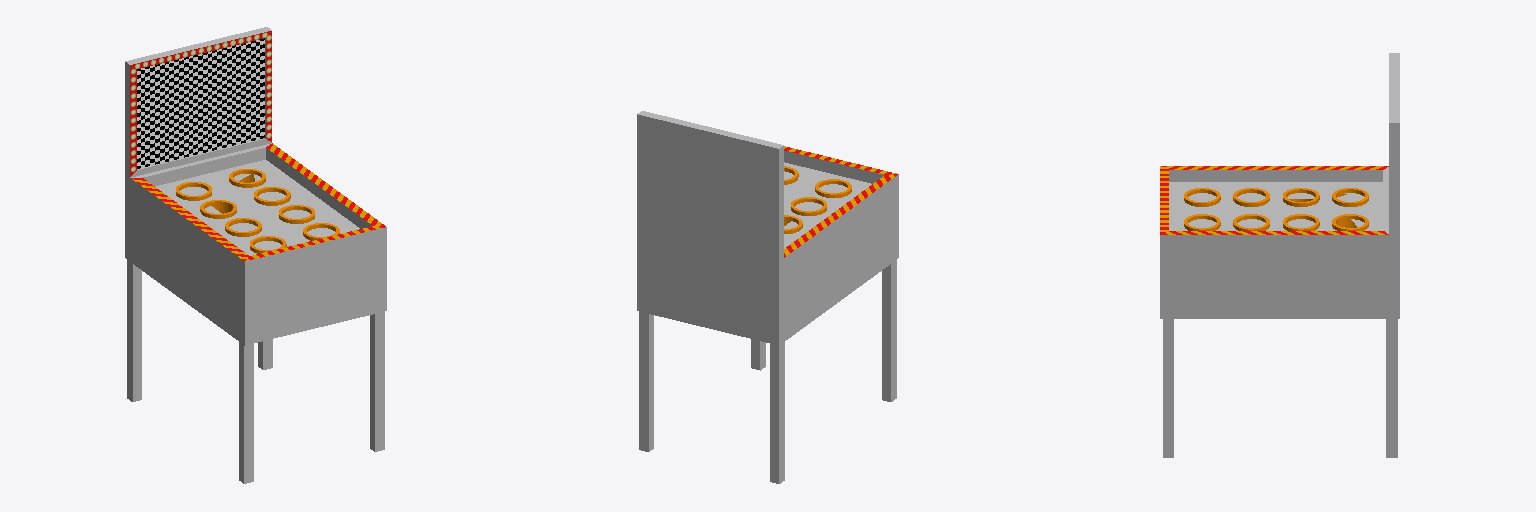
3 views of the same model, side by side, from view 1: azimuth 30°, elevation 25°; view 2: azimuth 150°, elevation 25°; view 3: azimuth 270°, elevation 25° (orthographic).
Parts seen in each view (by area): view 1: Maquina_Topos; view 2: Maquina_Topos; view 3: Maquina_Topos.
Part boxes in pixels (bbox=[...]): Maquina_Topos: bbox=[125, 27, 386, 483]; Maquina_Topos: bbox=[637, 111, 898, 483]; Maquina_Topos: bbox=[1160, 53, 1399, 457].
Size of the model in its own units: 0.6204 by 1.4 by 0.9041.
6 materials, 4 textured.